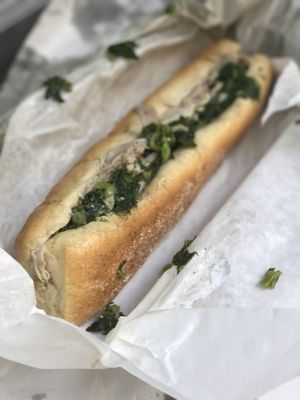curry: (69, 149, 159, 227)
